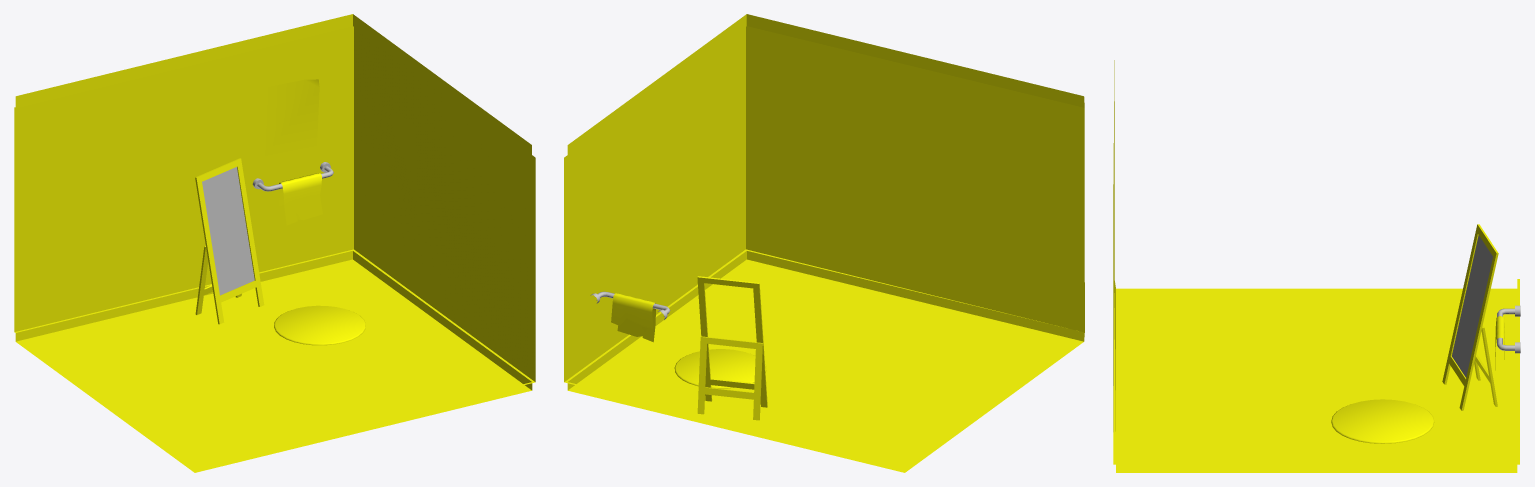
The picture shows the model from 3 angles, left to right: view 1: azimuth 30°, elevation 25°; view 2: azimuth 150°, elevation 25°; view 3: azimuth 270°, elevation 25°; orthographic projection. The views are drawn at different scales.
Parts seen in each view (by area): view 1: room, mirror, carpet; view 2: room, carpet; view 3: room, carpet, mirror.
Part boxes in pixels (bbox=[...]): room: bbox=[14, 14, 535, 472]; mirror: bbox=[202, 167, 254, 295]; carpet: bbox=[274, 305, 365, 345]; room: bbox=[564, 14, 1084, 472]; carpet: bbox=[674, 349, 766, 388]; room: bbox=[1113, 60, 1520, 472]; carpet: bbox=[1331, 399, 1434, 443]; mirror: bbox=[1452, 235, 1492, 377].
Size of the model in its own units: 4.57 by 3.16 by 4.24.
11 materials, 9 textured.
